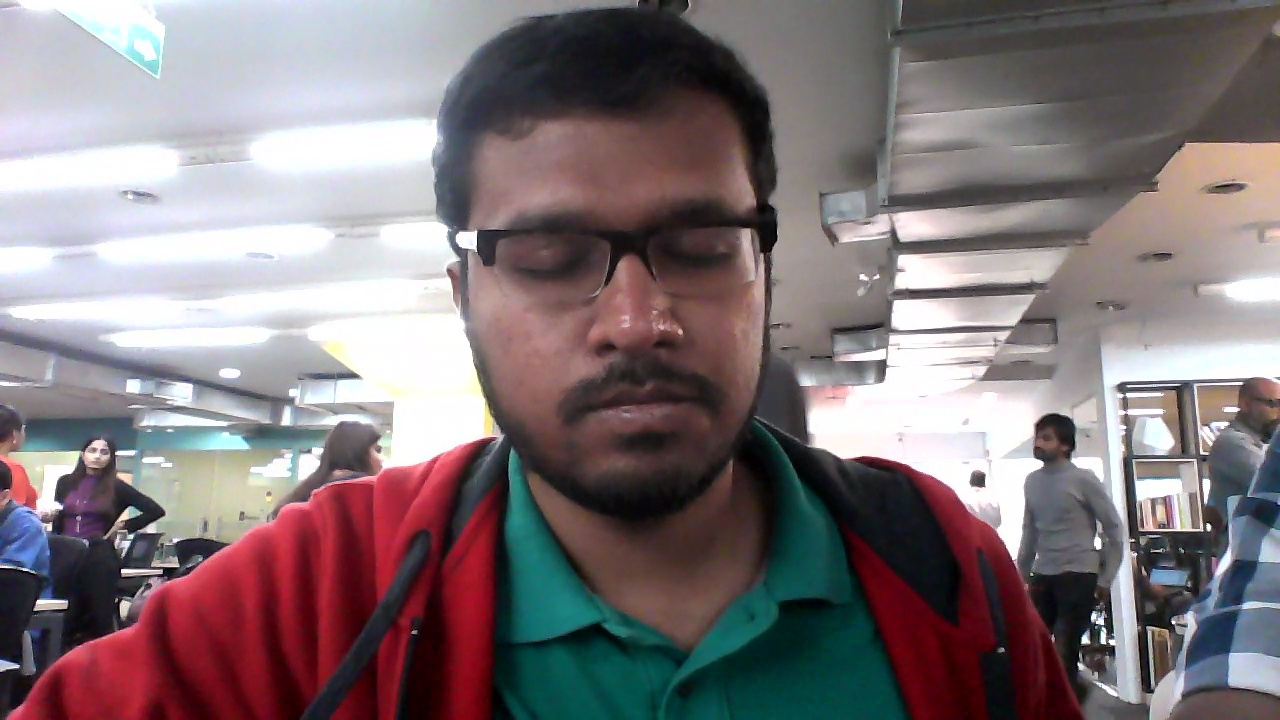closed: (427, 4, 793, 512)
